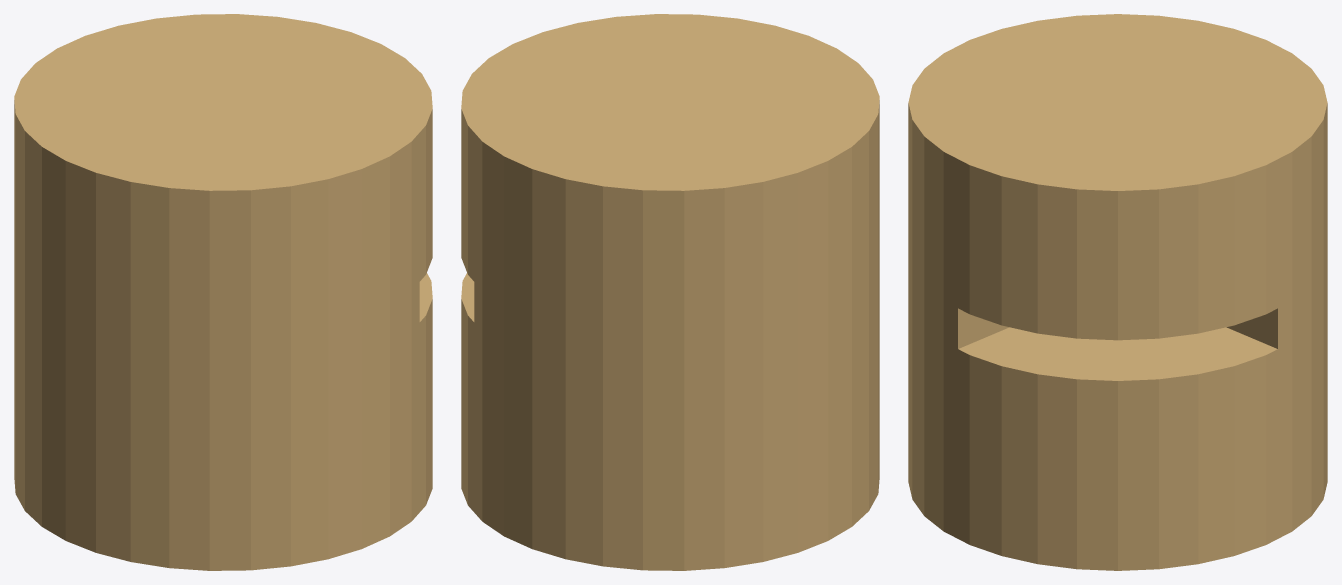
Rendered from step-3.glb.
3 views of the same model, side by side, from view 1: azimuth 30°, elevation 25°; view 2: azimuth 150°, elevation 25°; view 3: azimuth 270°, elevation 25° (orthographic).
Visible parts, largest first — view 1: Coin; view 2: Coin; view 3: Coin.
Part boxes in pixels (left/top/right/bottom): Coin: left=14, top=14, right=432, bottom=570; Coin: left=461, top=14, right=879, bottom=570; Coin: left=908, top=14, right=1327, bottom=570.
Size of the model in its own units: 2.8 by 2.8 by 2.8.
